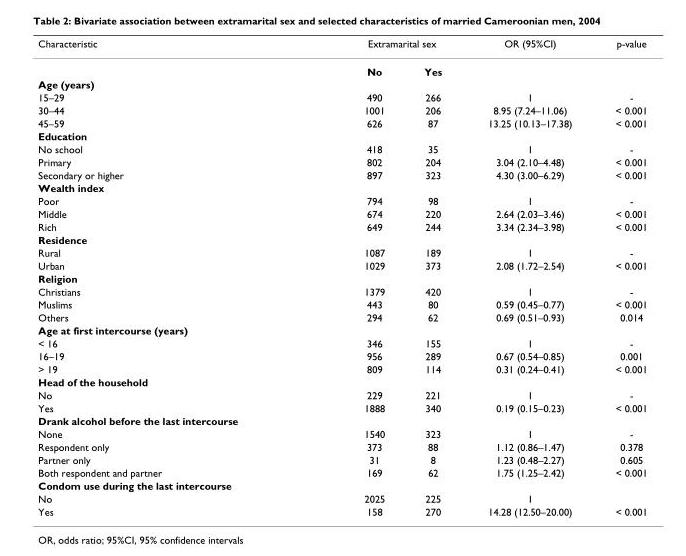table: (37, 37, 646, 517)
table column: (37, 37, 300, 517), (464, 37, 593, 517), (300, 37, 403, 517), (403, 37, 464, 517), (593, 37, 646, 517)
table column header: (37, 37, 646, 77)
table projected row header: (37, 180, 646, 194), (37, 77, 646, 90), (37, 129, 646, 142), (37, 232, 646, 245), (37, 271, 646, 284), (37, 323, 646, 336), (37, 375, 646, 388), (37, 413, 646, 426), (37, 478, 646, 491)
table row: (37, 56, 646, 77), (37, 37, 646, 56), (37, 180, 646, 194), (37, 77, 646, 90), (37, 90, 646, 103), (37, 103, 646, 116), (37, 116, 646, 129), (37, 129, 646, 142), (37, 142, 646, 155), (37, 155, 646, 168), (37, 206, 646, 219), (37, 219, 646, 232), (37, 232, 646, 245), (37, 245, 646, 258), (37, 258, 646, 271), (37, 271, 646, 284), (37, 284, 646, 297), (37, 297, 646, 310), (37, 310, 646, 323), (37, 323, 646, 336), (37, 336, 646, 349), (37, 349, 646, 362), (37, 362, 646, 375), (37, 375, 646, 388), (37, 388, 646, 401), (37, 413, 646, 426), (37, 426, 646, 439), (37, 439, 646, 452), (37, 452, 646, 465), (37, 465, 646, 478), (37, 478, 646, 491), (37, 491, 646, 504), (37, 504, 646, 517), (37, 168, 646, 180), (37, 194, 646, 206), (37, 401, 646, 413)
table spanning cell: (37, 37, 300, 77), (464, 37, 593, 77), (300, 37, 464, 56), (593, 37, 646, 77)
